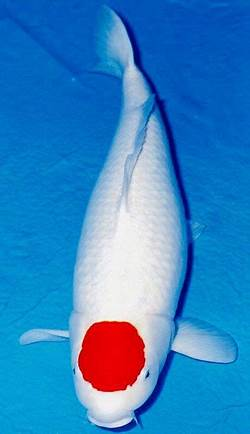sun: (19, 4, 240, 428)
